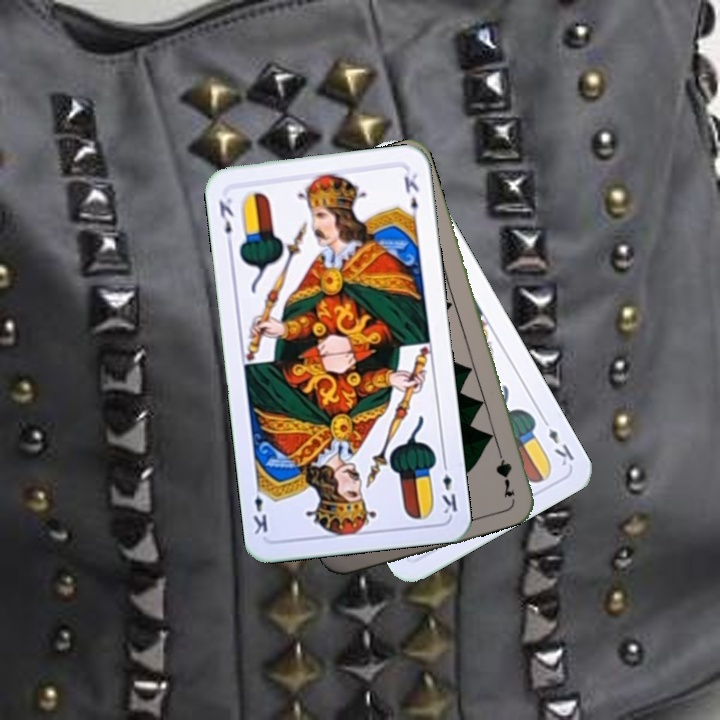EK: (537, 412, 577, 469), (437, 457, 460, 516), (214, 194, 236, 249)
G7: (492, 440, 518, 499)
